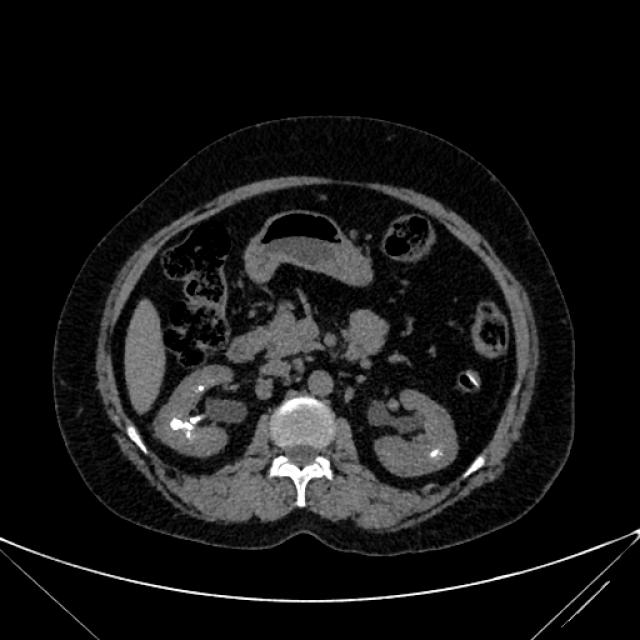kidney: (371, 399, 452, 471), (163, 372, 226, 458)
stone: (171, 417, 191, 431), (190, 417, 200, 424), (432, 448, 438, 456), (198, 385, 204, 391)
